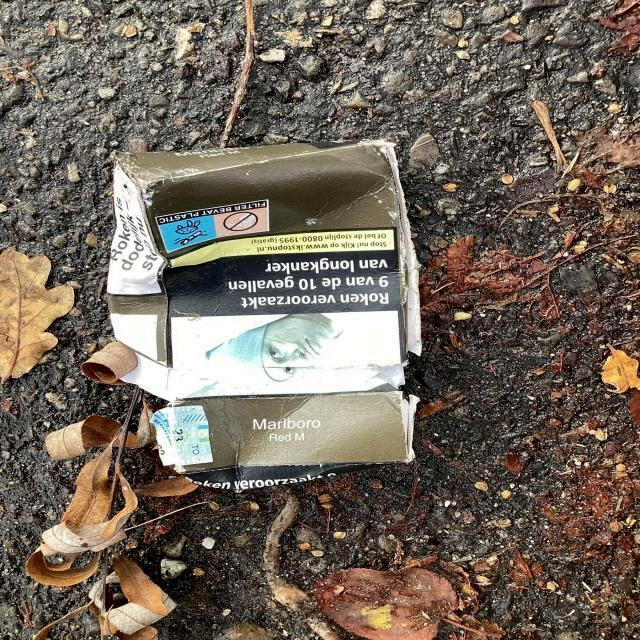Paper: (100, 135, 426, 497)
